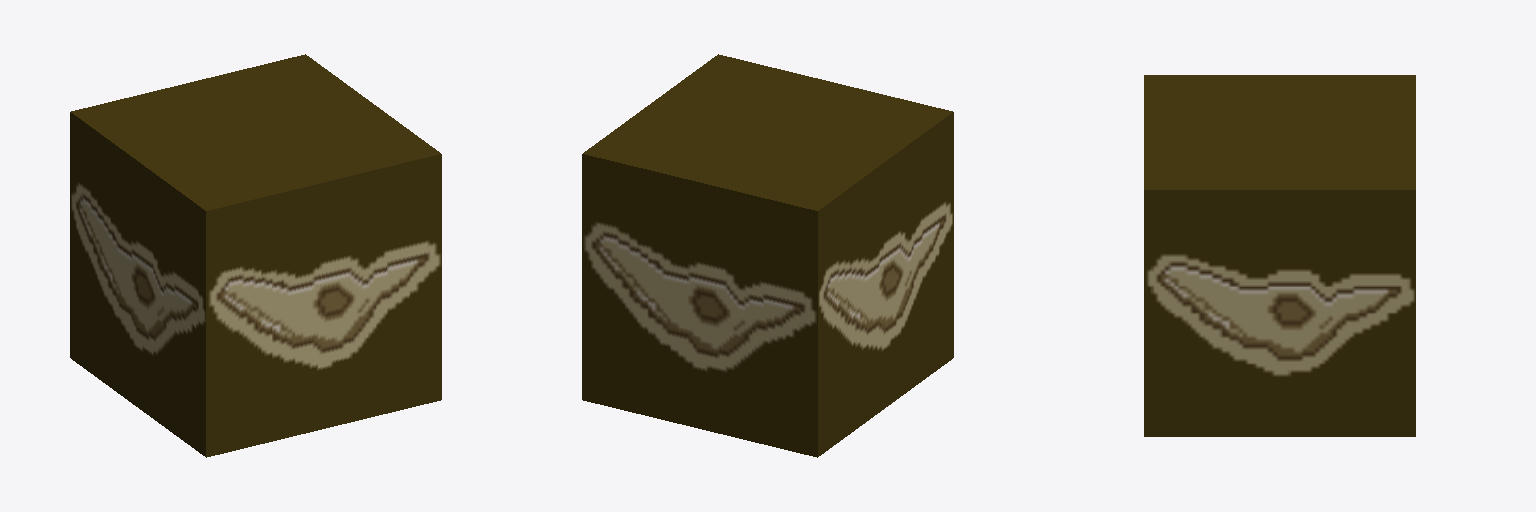
The picture shows the model from 3 angles: view 1: azimuth 30°, elevation 25°; view 2: azimuth 150°, elevation 25°; view 3: azimuth 270°, elevation 25°; orthographic projection.
Visible parts, largest first — view 1: Cube; view 2: Cube; view 3: Cube.
Boxes of the visible parts, box(x1,y1,x2,y2) form: Cube: box(70, 54, 441, 457); Cube: box(582, 54, 953, 457); Cube: box(1144, 75, 1415, 436).
Size of the model in its own units: 2 by 2 by 2.
Materials: 1 (1 with a texture image).